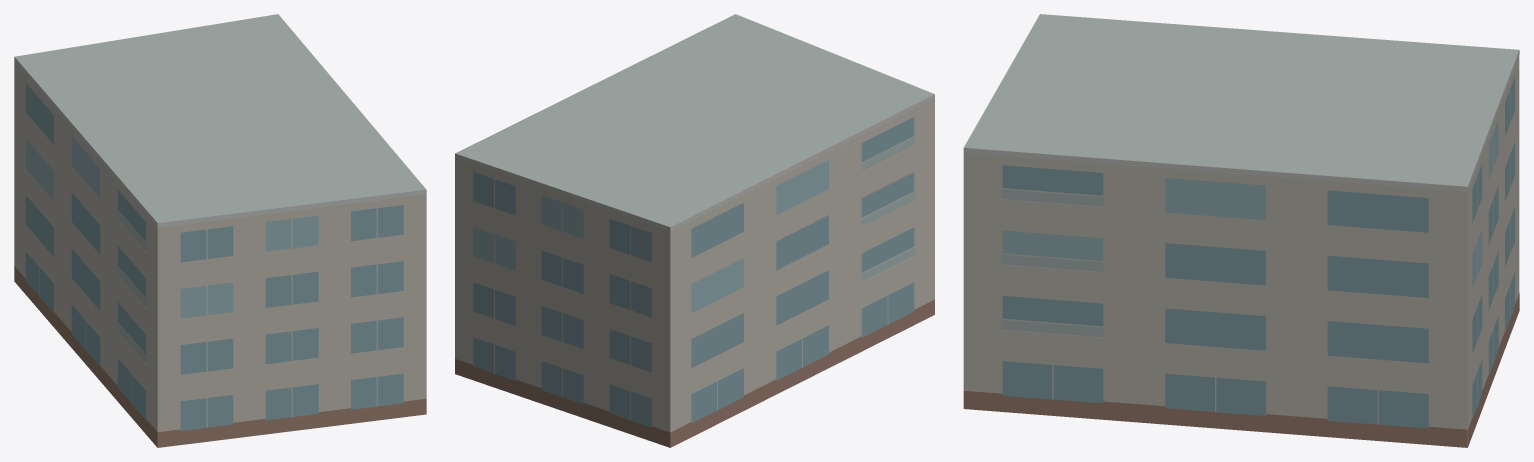
File: survey-upis-32767751.glb
The picture shows the model from 3 angles, left to right: view 1: azimuth 30°, elevation 25°; view 2: azimuth 150°, elevation 25°; view 3: azimuth 270°, elevation 25°; orthographic projection. The views are drawn at different scales.
Visible parts, largest first — view 1: survey-upis-32767751.tmp; view 2: survey-upis-32767751.tmp; view 3: survey-upis-32767751.tmp.
Part boxes in pixels (x1=…): survey-upis-32767751.tmp: x1=14, y1=14, x2=426, y2=447; survey-upis-32767751.tmp: x1=455, y1=14, x2=934, y2=447; survey-upis-32767751.tmp: x1=963, y1=14, x2=1519, y2=447.
Bounding box in the file's own units: 17.32 × 12.2 × 23.54.
